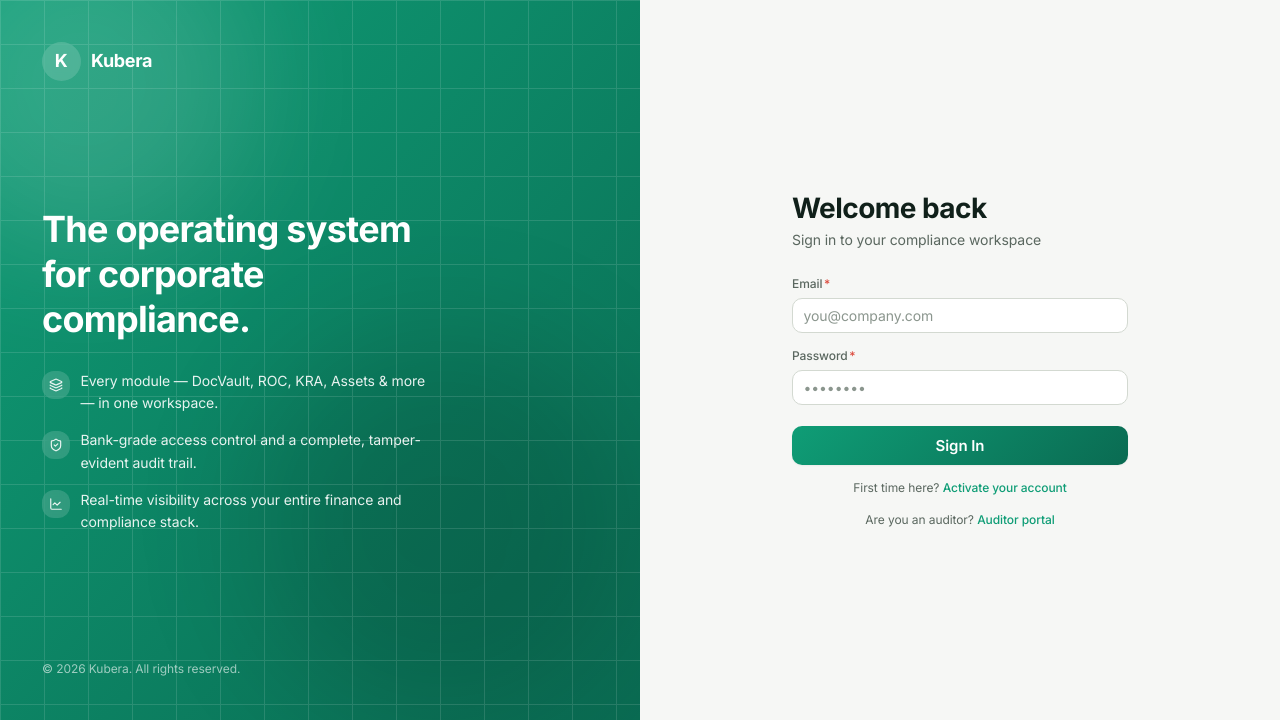
CompanyLogin Rate Limit › displays the parsed Retry-After header as minutes on 429 response
Type "admin@acme.test" into the field labelled "Email*".
click(960, 316); type("admin@acme.test")  # box [792,298,1128,333]
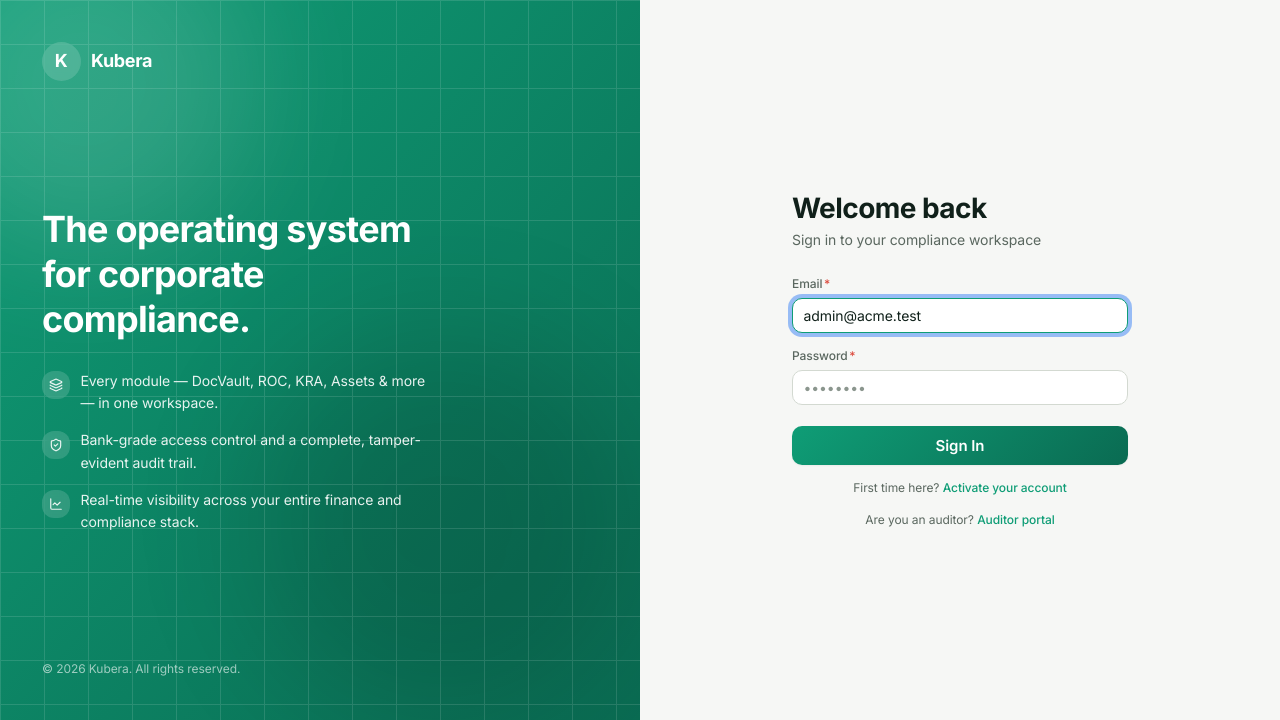
Type "password123" into the password field labelled "Password*".
click(960, 388); type("password123")  # box [792,370,1128,405]
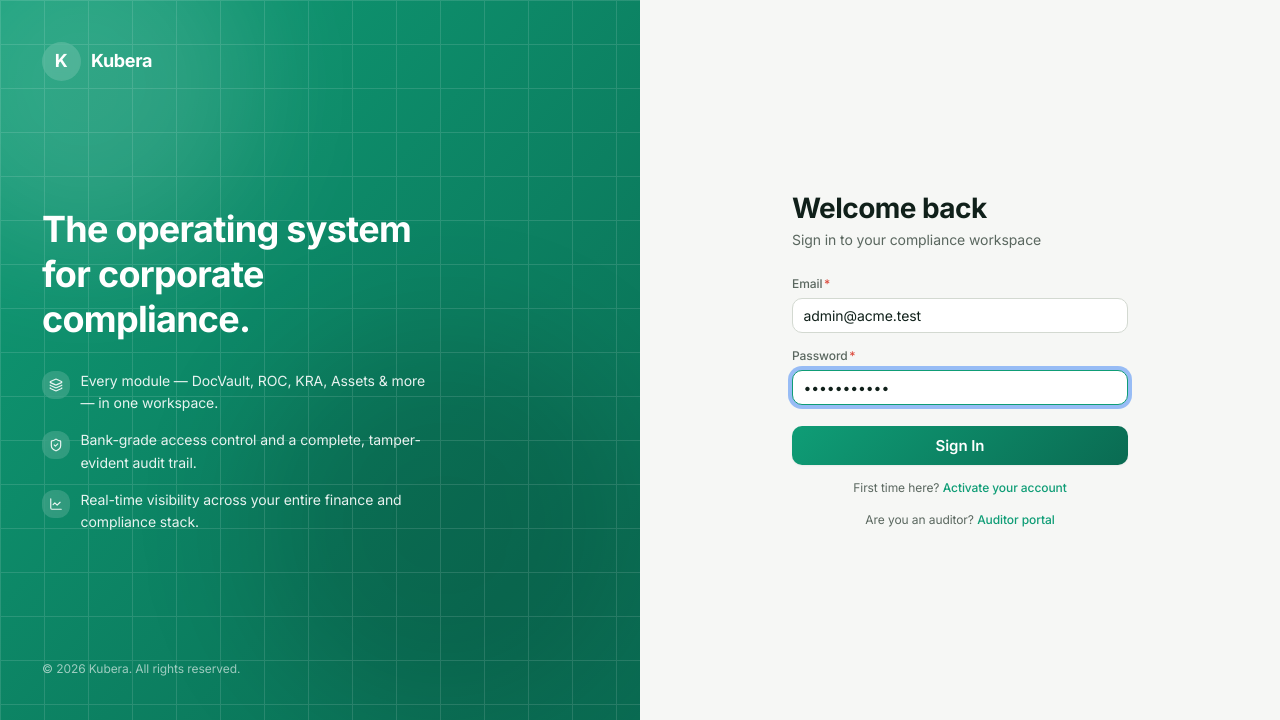
Click the button "Sign In".
click(960, 446)  # box [792,426,1128,465]
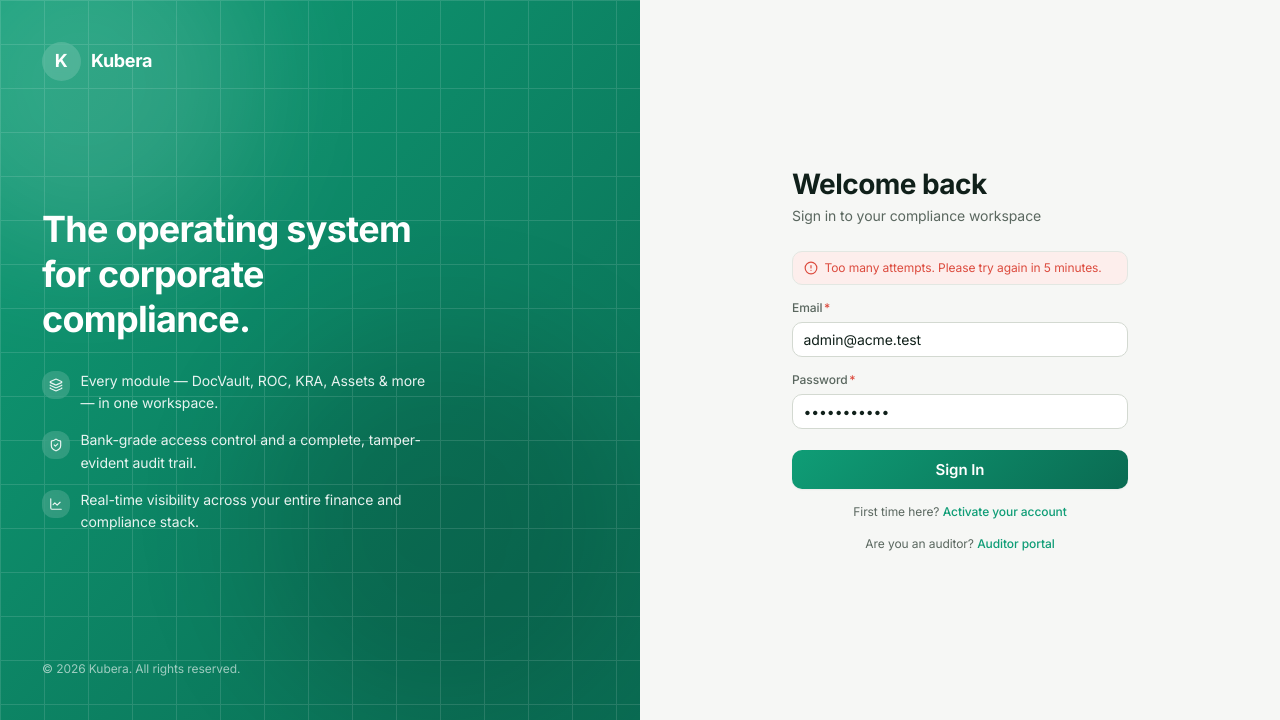
Expected: the button "Too many attempts. Please try again in 5 minutes." is shown, [792,251,1128,285]
